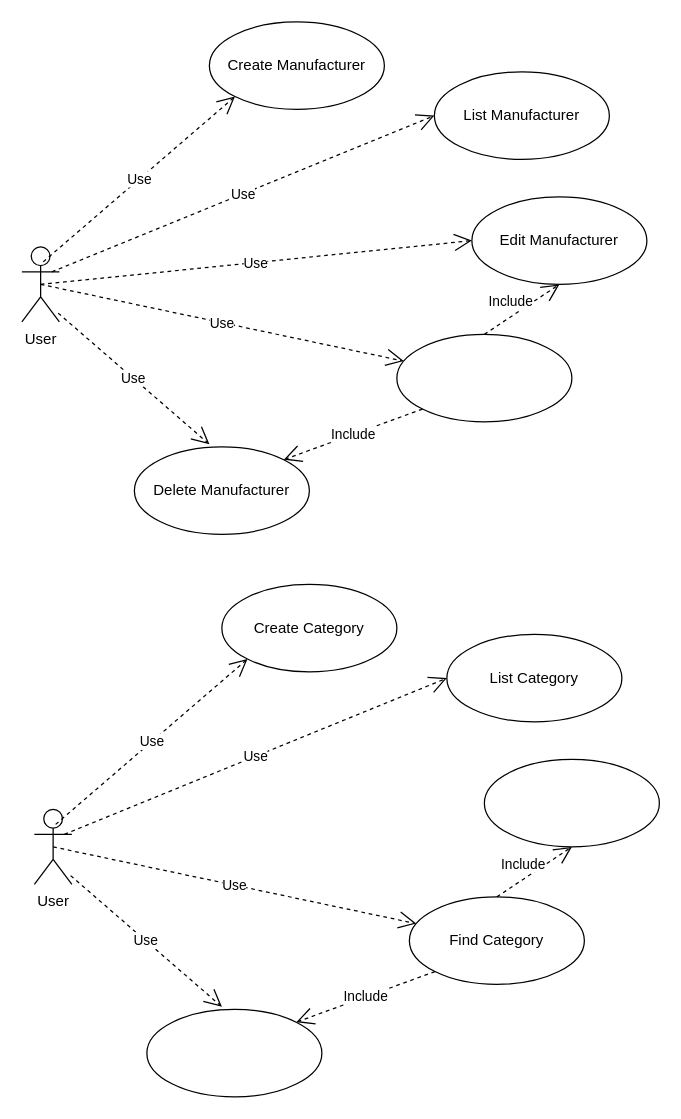
The diagram is 681 pixels wide and 1119 high, and some of its shapes have lost their labels. The shapes that lost their labels are listed below. From the top down, each one's centre as x and y in pixels, then its label:
At point (484, 377): "Find Manufacturer".
At point (571, 802): "Edit Category".
At point (234, 1052): "Delete Category".
